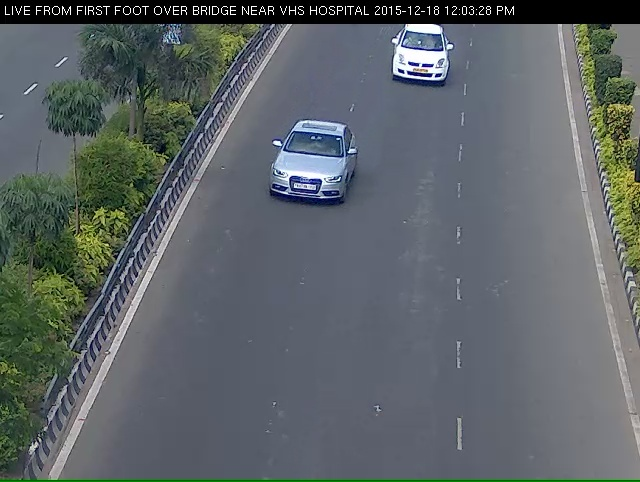Car: (254, 124, 359, 235), (386, 28, 454, 99)
